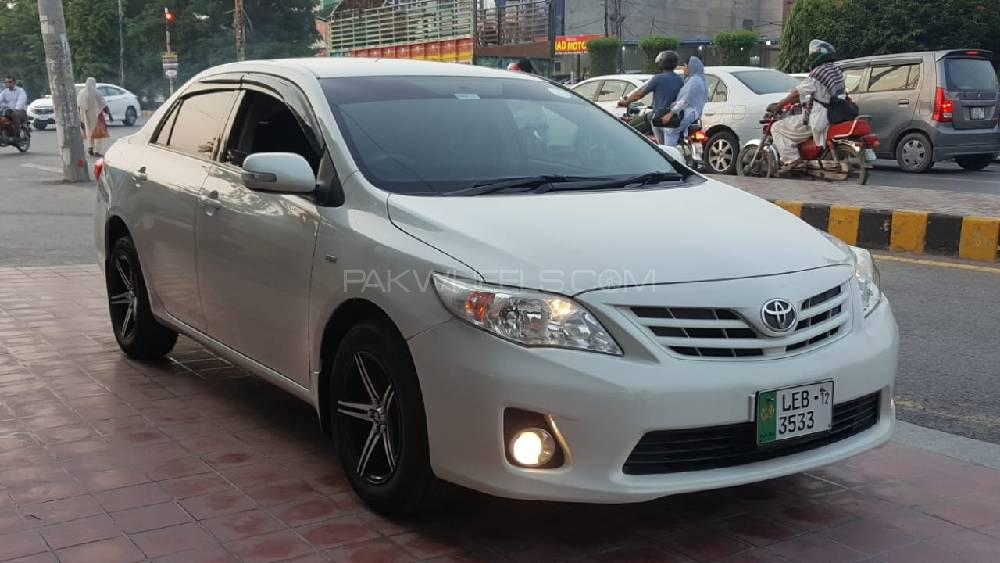license plate: (759, 394, 836, 435)
